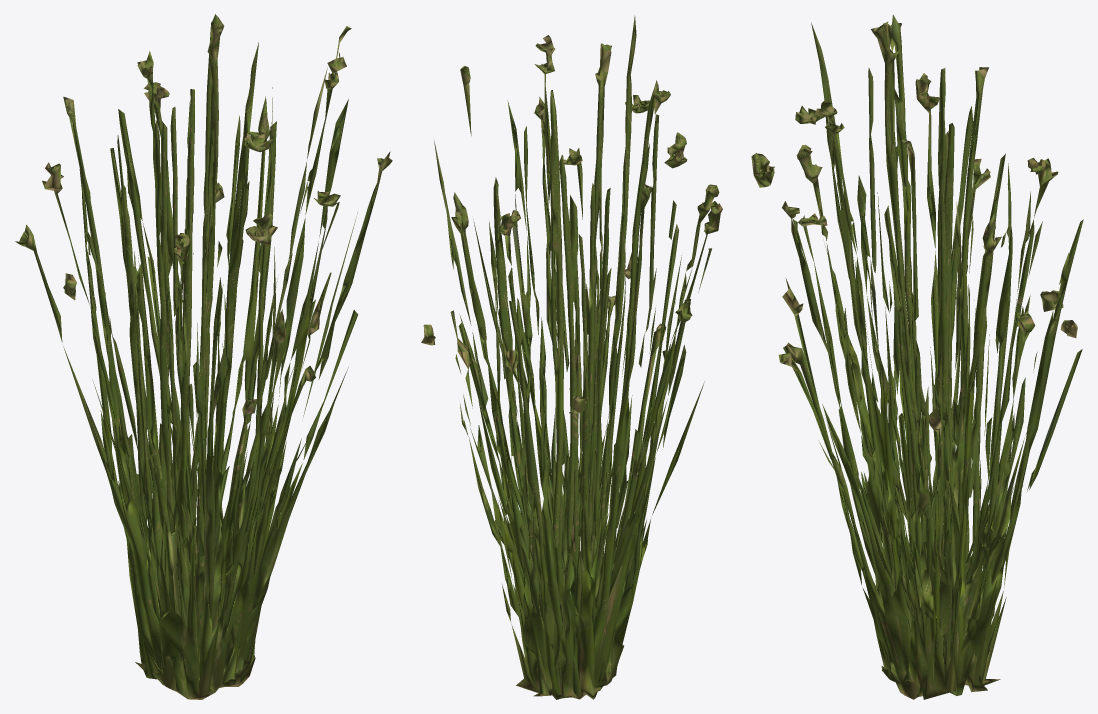
Rendered from juncos_alto.glb.
The picture shows the model from 3 angles, left to right: view 1: azimuth 30°, elevation 25°; view 2: azimuth 150°, elevation 25°; view 3: azimuth 270°, elevation 25°; orthographic projection. The views are drawn at different scales.
Visible parts, largest first — view 1: alto; view 2: alto; view 3: alto.
Part boxes in pixels (<box>): alto: <box>15,14,392,699</box>; alto: <box>421,15,722,699</box>; alto: <box>751,14,1083,699</box>.
Size of the model in its own units: 0.5939 by 1.3 by 0.5942.
Materials: 1 (1 with a texture image).
